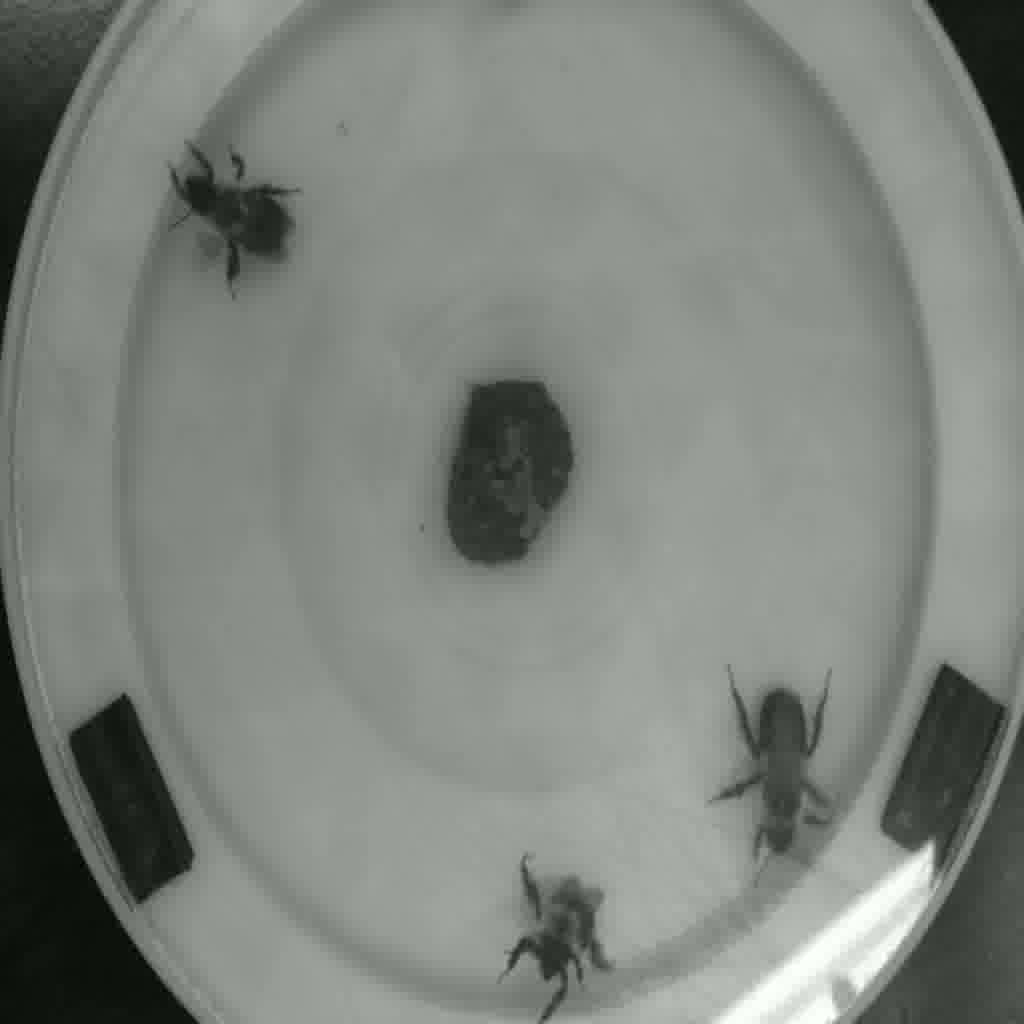bee: (499, 845, 636, 1022), (725, 671, 839, 880), (163, 133, 314, 267)
